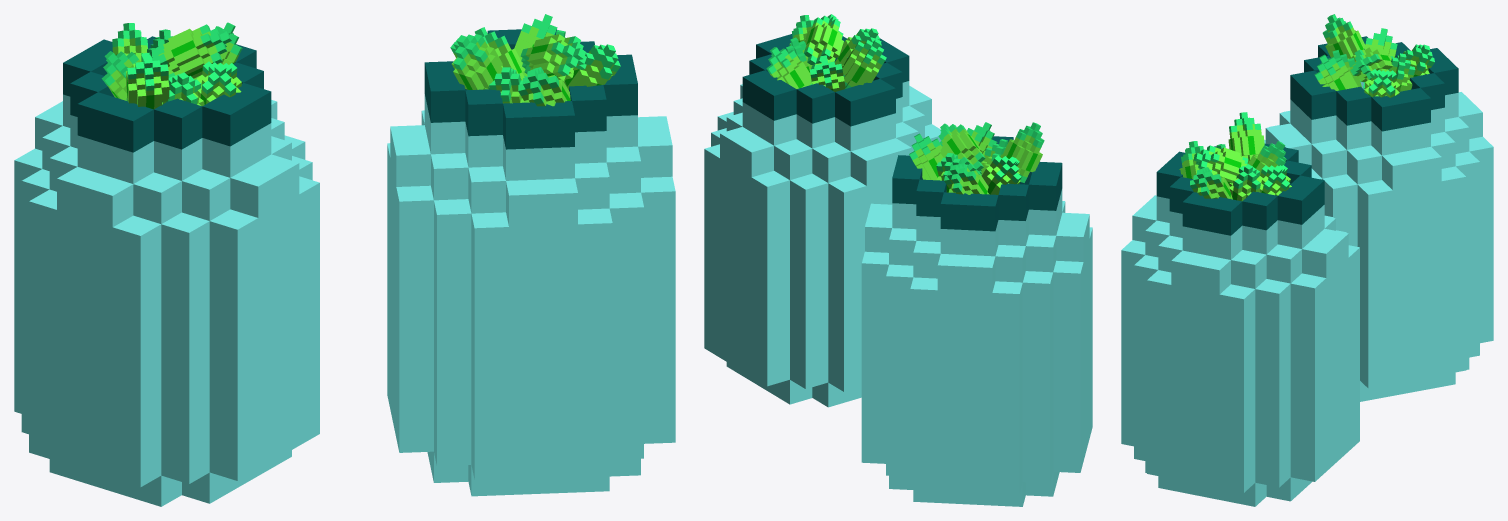
The model's file is Jars of Gems.fbx.
3 views of the same model, side by side, from view 1: azimuth 30°, elevation 25°; view 2: azimuth 150°, elevation 25°; view 3: azimuth 270°, elevation 25° (orthographic). The views are drawn at different scales.
Parts seen in each view (by area): view 1: Untitled; view 2: Untitled; view 3: Untitled.
Boxes of the visible parts, x1,y1,x2,y2 form: Untitled: (14,14,675,506); Untitled: (704,14,1092,506); Untitled: (1121,14,1493,506).
Size of the model in its own units: 545 by 409 by 418.
